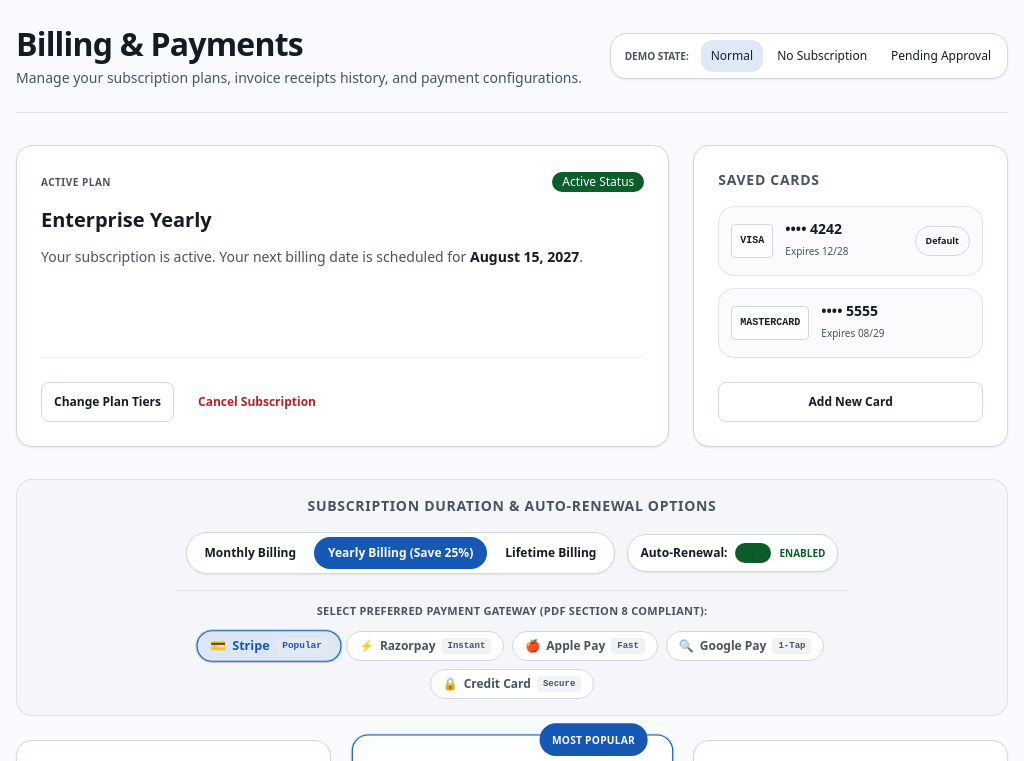
Test case: PaymentsPage MVP Component Tests › displays pending review warning message in Pending Approval view state
Switch state to Pending Approval
Click the button "Pending Approval" at (941, 56), box [881,40,1001,72]
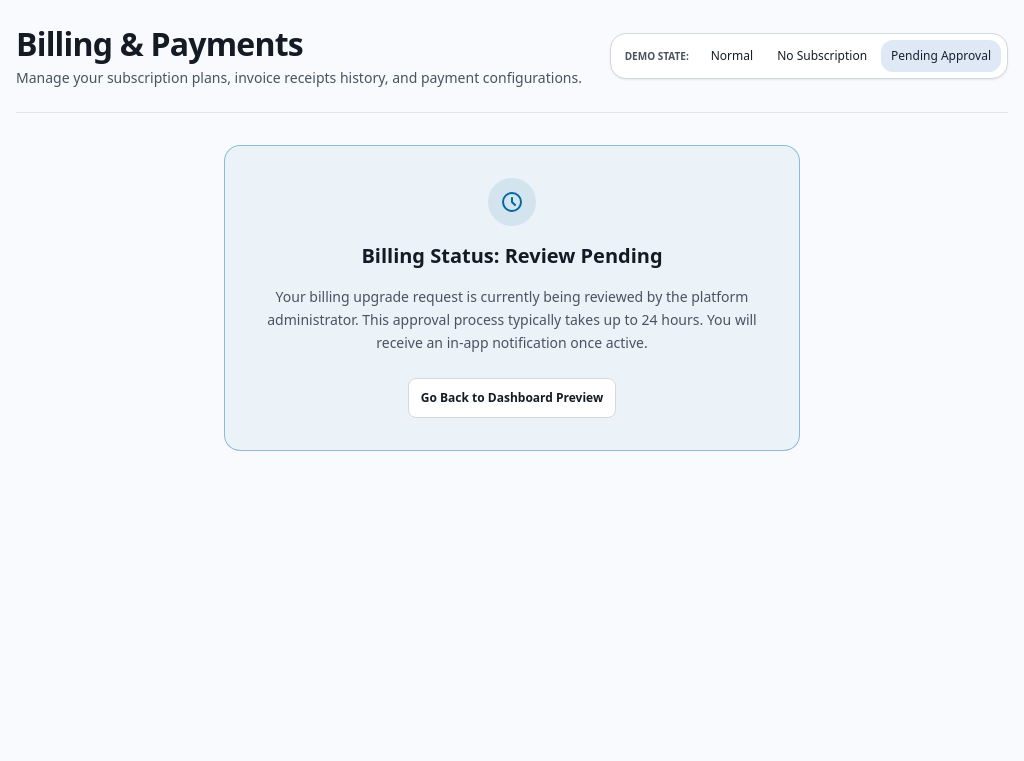
Now the heading "Billing Status: Review Pending" is shown, box [361,242,663,269]
Now the text "process typically takes up to 24 hours" is shown, box [267,287,757,352]
